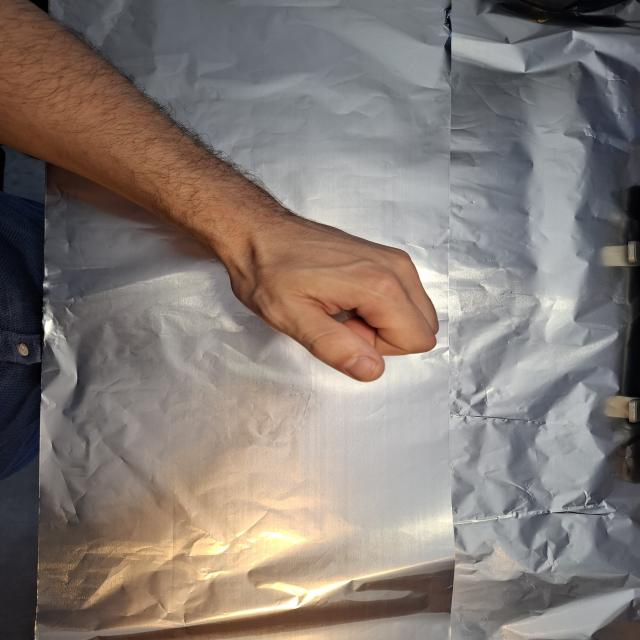glove_off: (207, 194, 442, 384)
